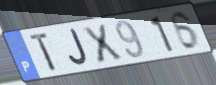1: (150, 14, 176, 54)
6: (169, 11, 202, 51)
9: (114, 19, 146, 60)
J: (67, 27, 90, 68)
T: (28, 30, 59, 74)
X: (80, 23, 126, 66)
